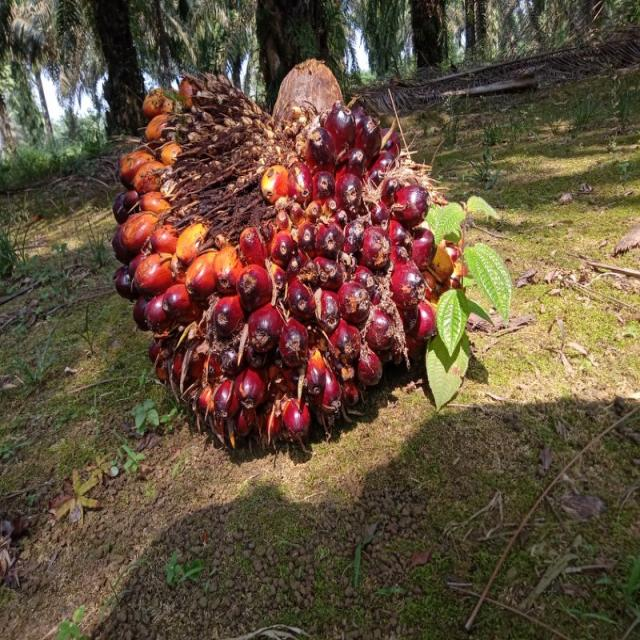fraksi 1: (100, 29, 489, 492)
